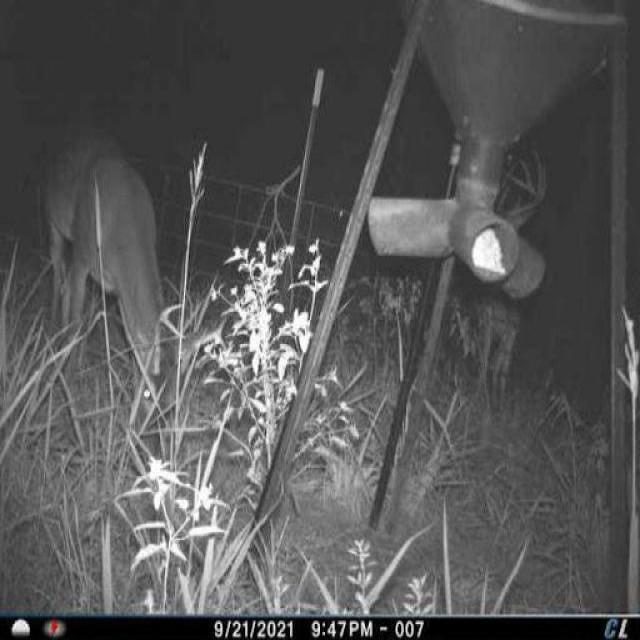deer: (36, 102, 219, 442), (458, 131, 554, 406)
